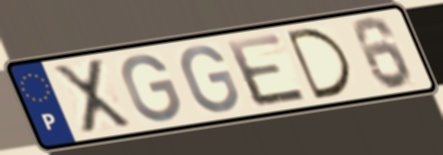6: (352, 14, 414, 93)
D: (282, 25, 355, 102)
E: (221, 31, 312, 110)
G: (120, 52, 184, 124), (179, 44, 243, 115)
X: (48, 56, 137, 137)
